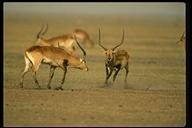antelope: (19, 35, 89, 90), (97, 26, 130, 87), (33, 23, 78, 60)
grass: (132, 44, 184, 124), (6, 93, 129, 123)
sky: (5, 3, 184, 13)
